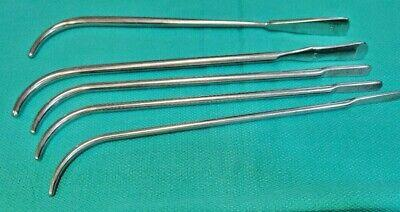Urethral Dilators: (44, 82, 399, 201), (32, 72, 388, 164), (9, 38, 375, 115), (26, 59, 381, 134), (23, 10, 359, 58)
